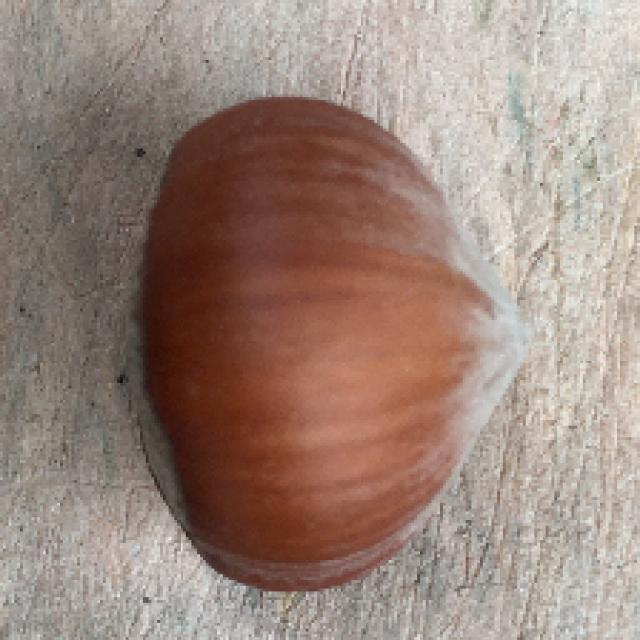qualityHazelnut: (121, 88, 533, 598)
